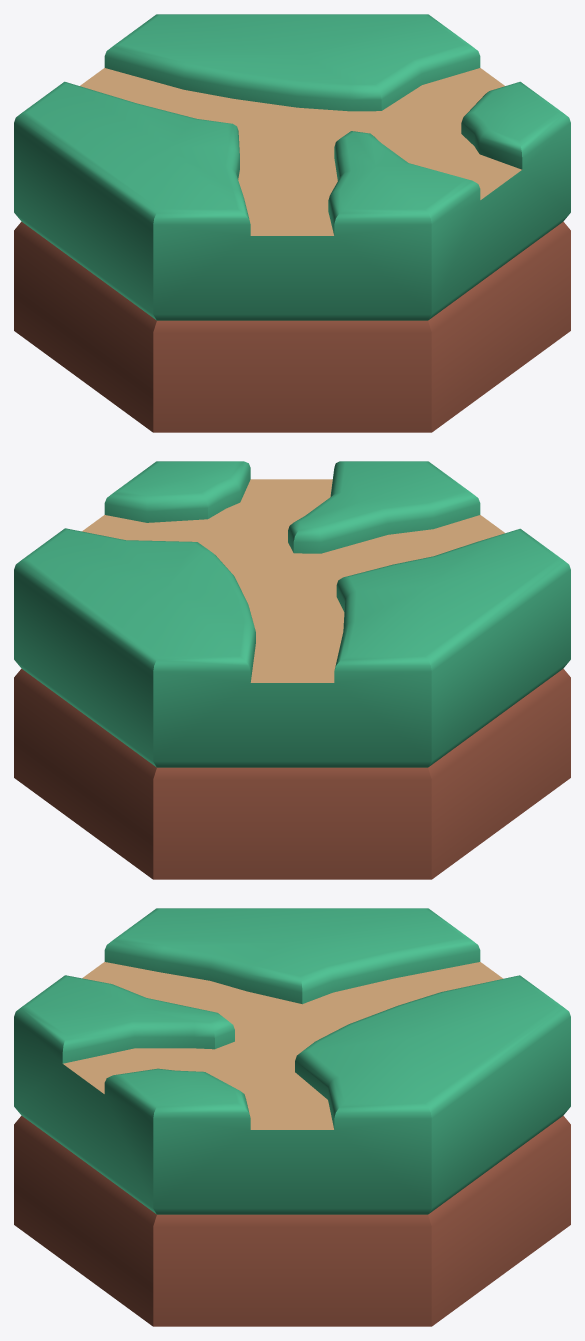
File: hex_forest_roadI_detail.glb
3 renders of one model, top to bottom at view 1: azimuth 30°, elevation 25°; view 2: azimuth 150°, elevation 25°; view 3: azimuth 270°, elevation 25°, orthographic.
Visible parts, largest first — view 1: hex_forest_roadI_detail; view 2: hex_forest_roadI_detail; view 3: hex_forest_roadI_detail.
Part boxes in pixels (bbox=[...]): hex_forest_roadI_detail: bbox=[14, 14, 570, 432]; hex_forest_roadI_detail: bbox=[14, 461, 570, 879]; hex_forest_roadI_detail: bbox=[14, 908, 570, 1326].
Size of the model in its own units: 2 by 1 by 2.31.
